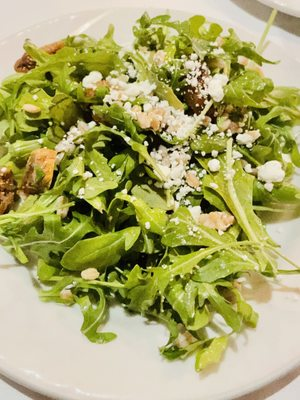sandwich: (0, 4, 299, 399)
